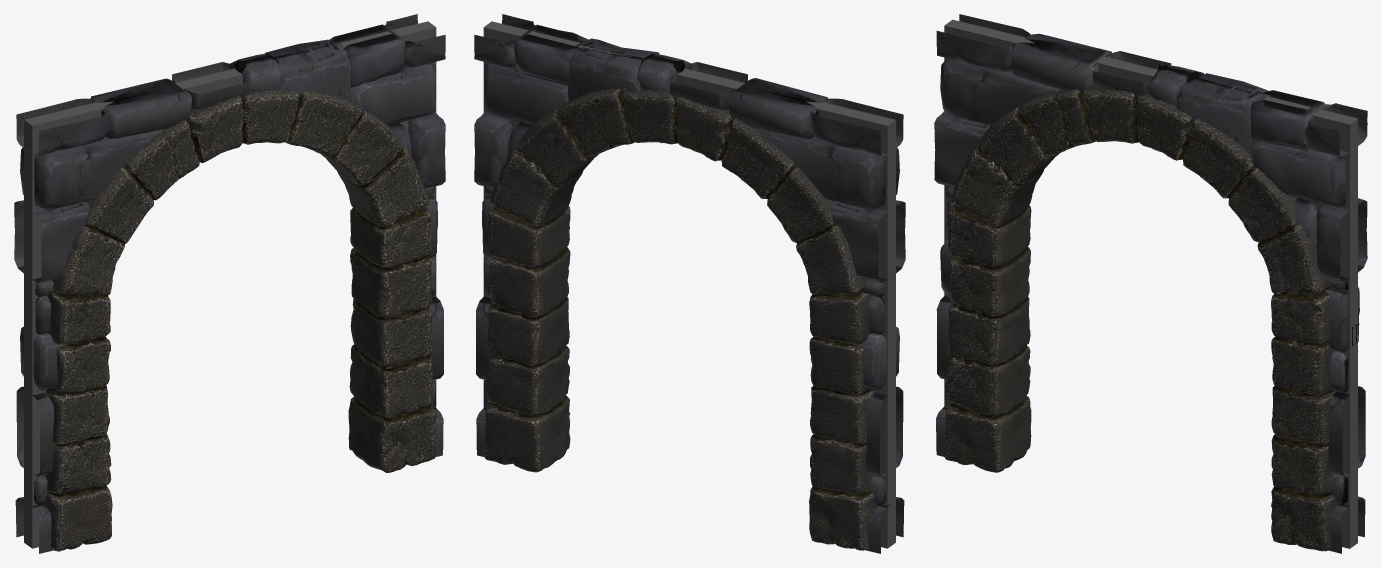
The model's file is Archway_Portcullis.fbx.
3 views of the same model, side by side, from view 1: azimuth 30°, elevation 25°; view 2: azimuth 150°, elevation 25°; view 3: azimuth 330°, elevation 25° (orthographic).
Visible parts, largest first — view 1: Archway_Portcullis; view 2: Archway_Portcullis; view 3: Archway_Portcullis.
Boxes of the visible parts, <box> form: Archway_Portcullis: <box>14,14,445,553</box>; Archway_Portcullis: <box>474,14,905,553</box>; Archway_Portcullis: <box>934,14,1367,553</box>.
Bounding box in the file's own units: 302 × 307 × 48.93.
Materials: 3 (2 with a texture image).
